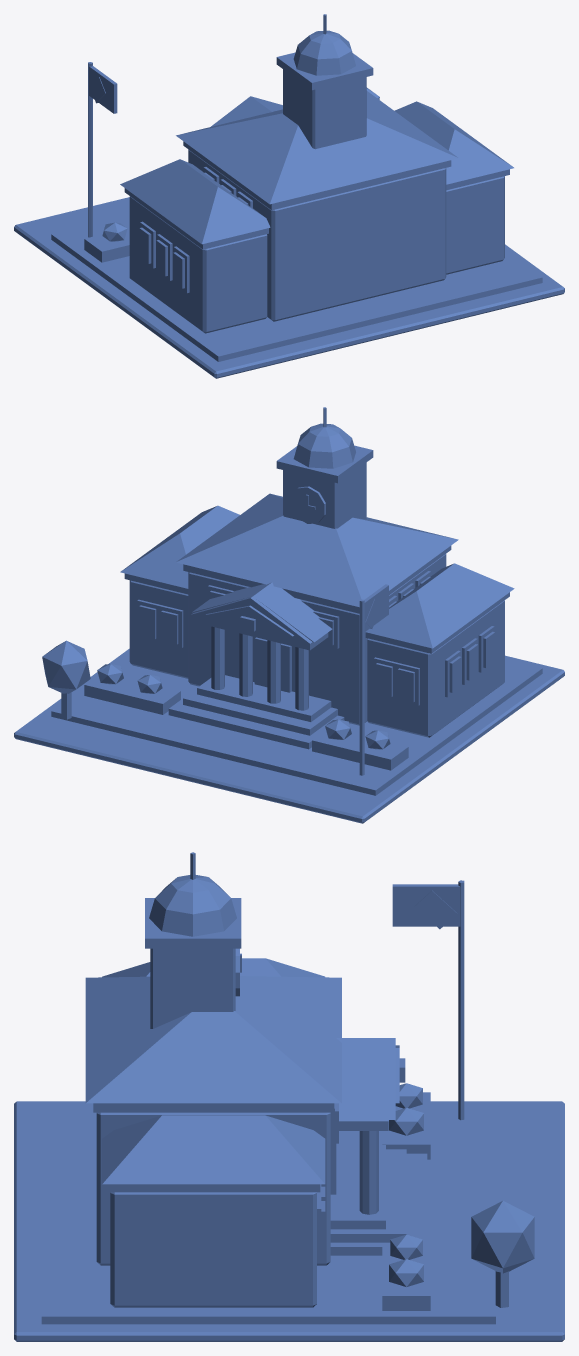
3 views of the same model, one above another, from view 1: azimuth 30°, elevation 25°; view 2: azimuth 150°, elevation 25°; view 3: azimuth 270°, elevation 25° (orthographic). The views are drawn at different scales.
Parts seen in each view (by area): view 1: corpo; view 2: corpo; view 3: corpo.
Part boxes in pixels (<box>): corpo: <box>14,14,564,378</box>; corpo: <box>14,407,564,823</box>; corpo: <box>14,852,564,1341</box>.
Size of the model in its own units: 4 by 2.99 by 4.
